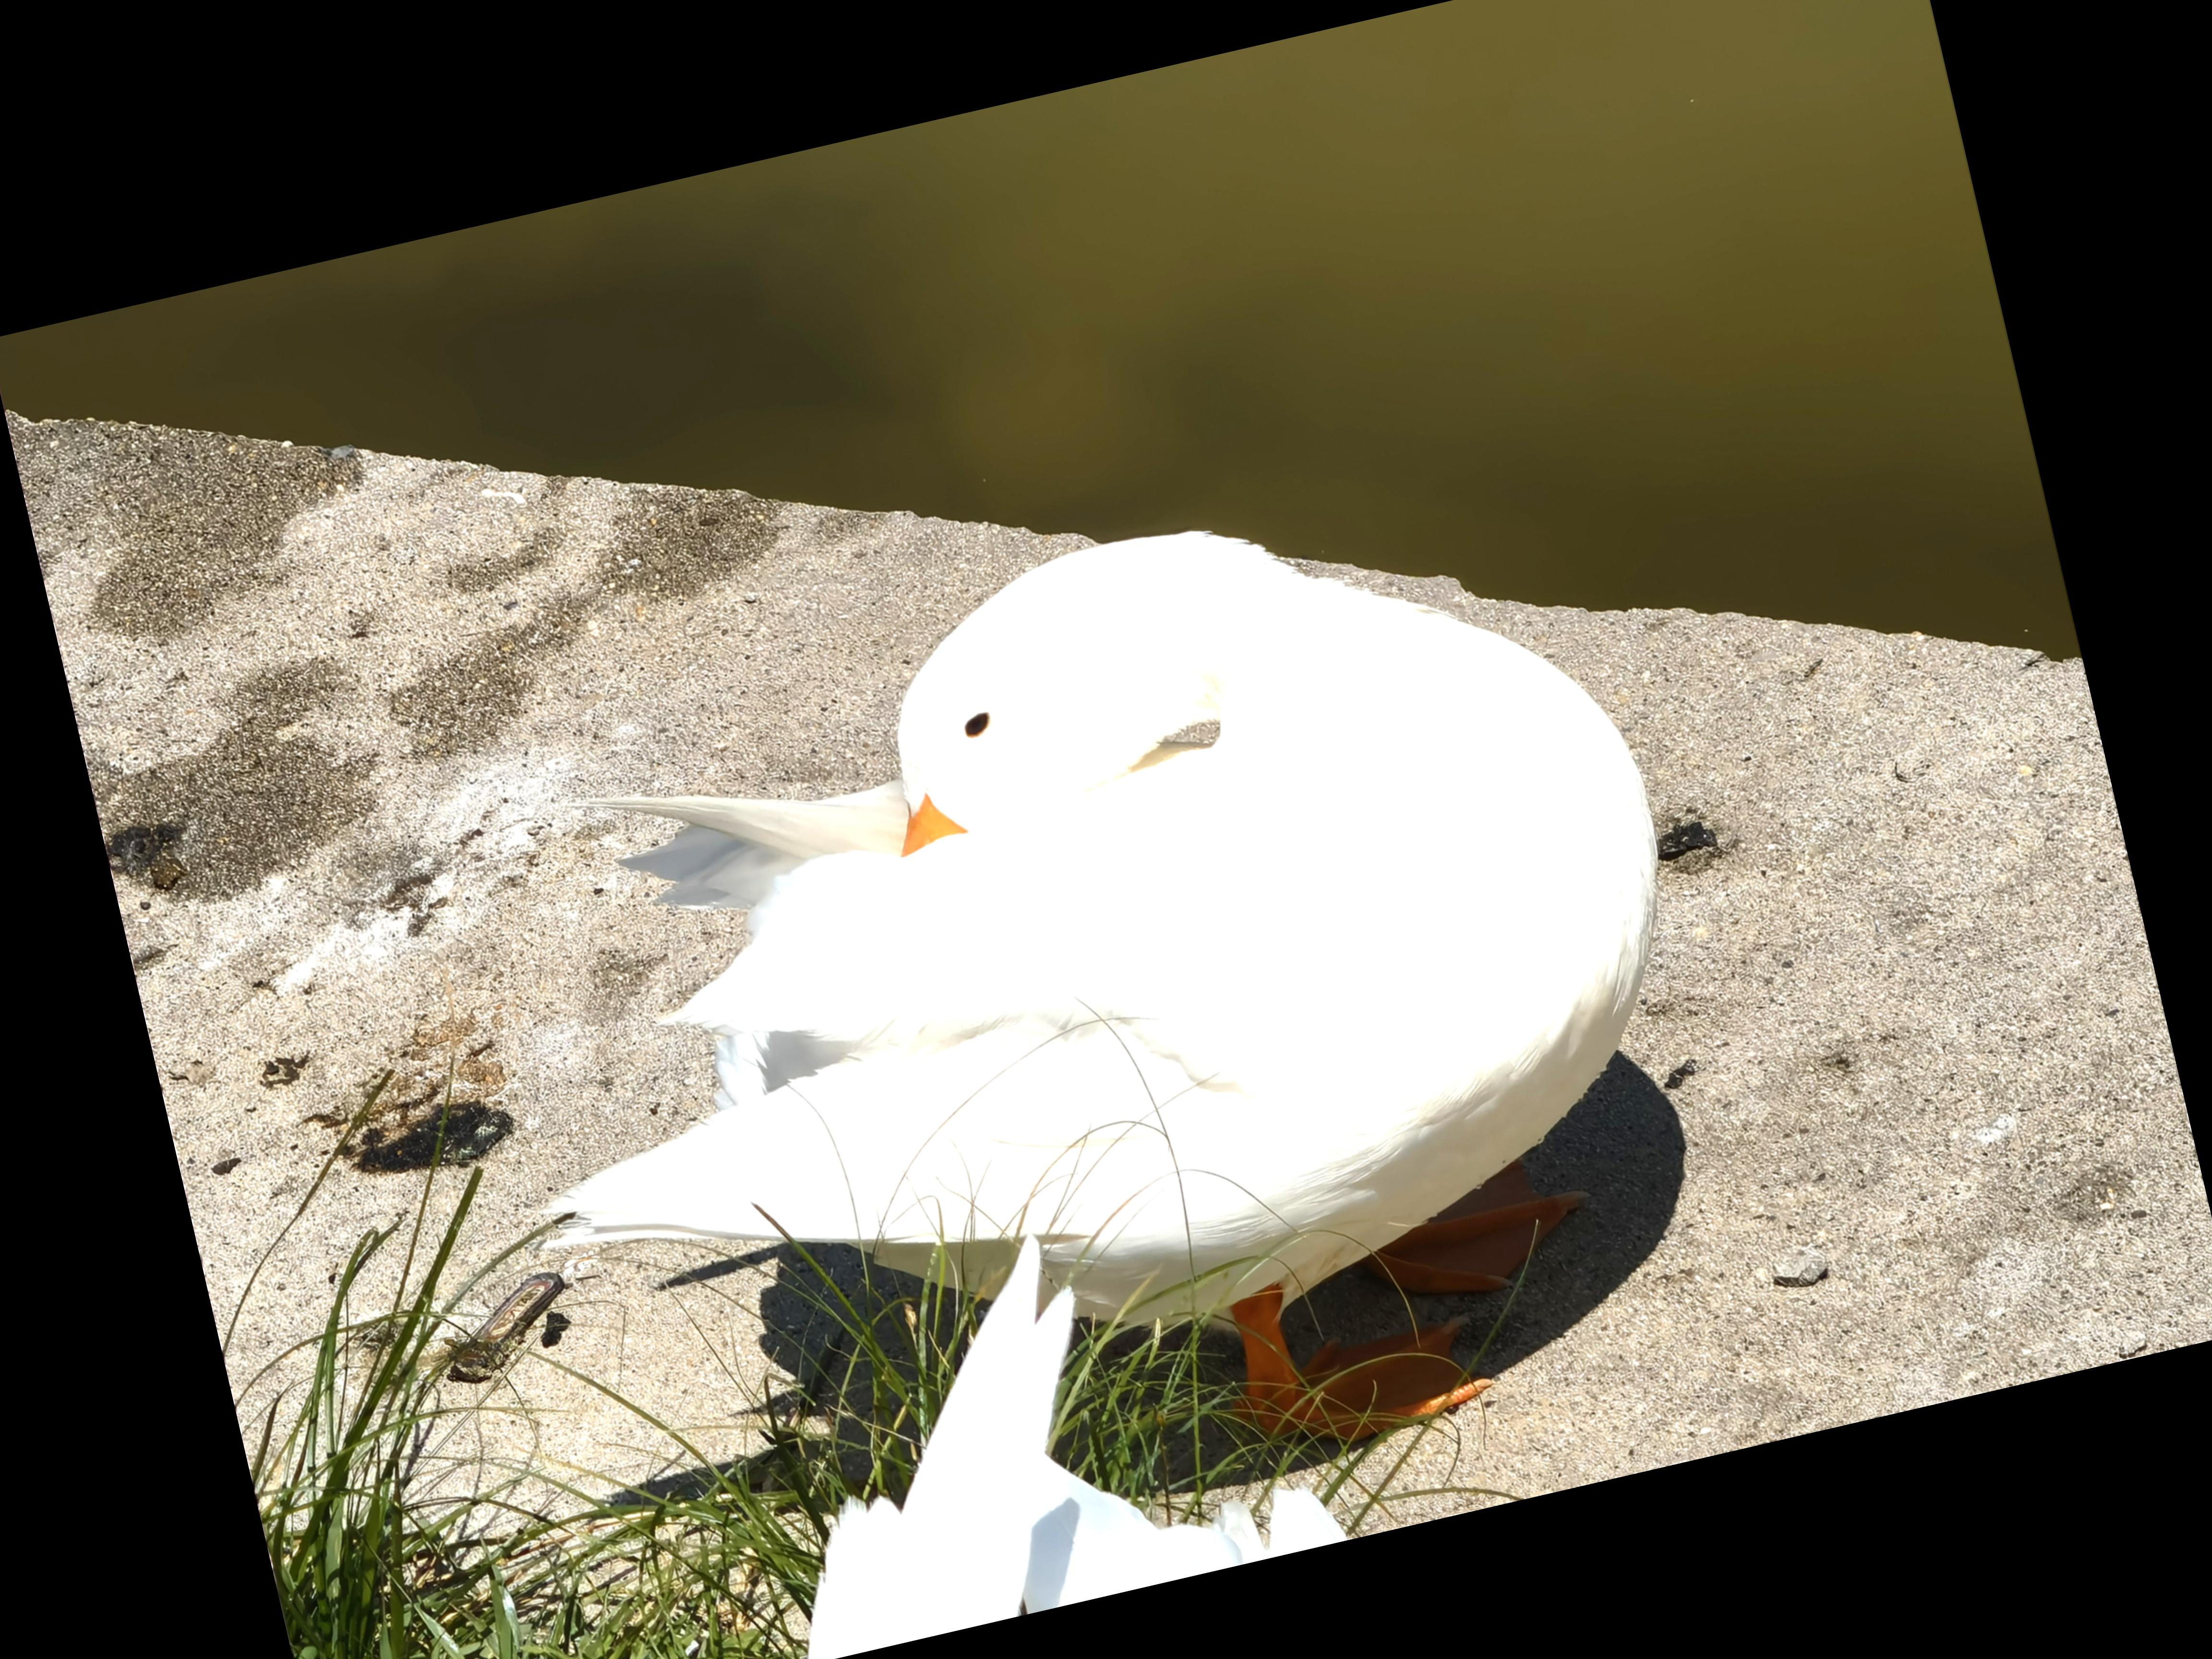duck: (442, 385, 1815, 1601)
